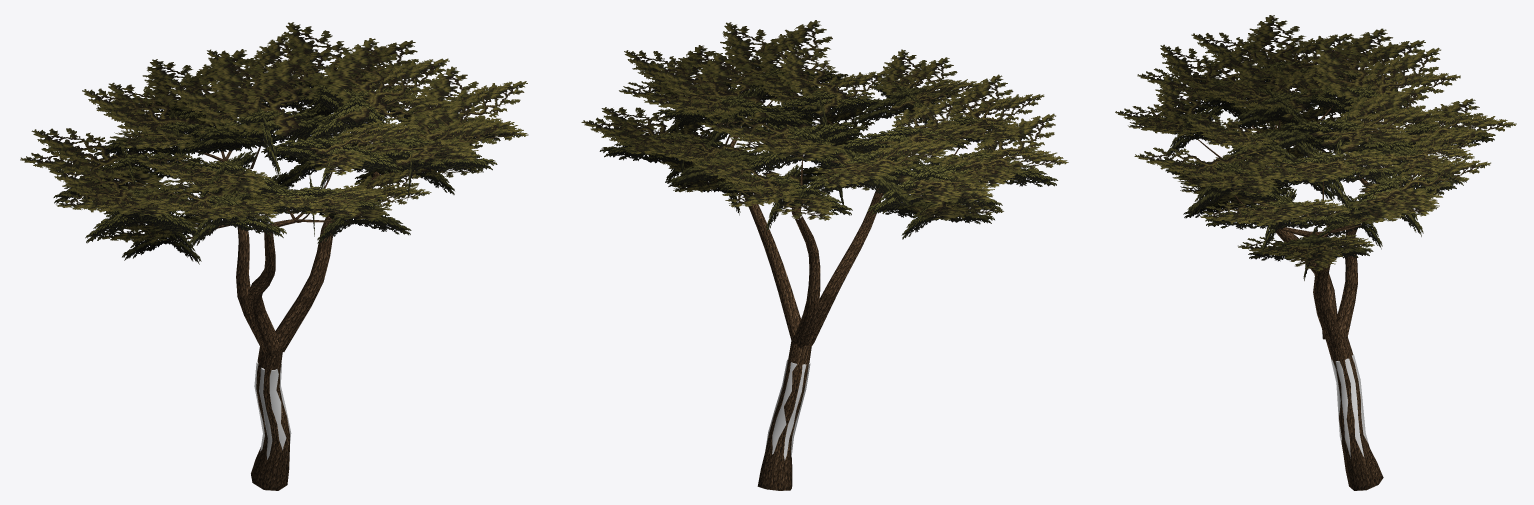
Rendered from Acacia-03-Inclinada.glb.
3 renders of one model, left to right at view 1: azimuth 30°, elevation 25°; view 2: azimuth 150°, elevation 25°; view 3: azimuth 270°, elevation 25°, orthographic. The views are drawn at different scales.
Visible parts, largest first — view 1: Acacia-03-Inclinada, Acacia-03-Inclinada_COL; view 2: Acacia-03-Inclinada, Acacia-03-Inclinada_COL; view 3: Acacia-03-Inclinada, Acacia-03-Inclinada_COL.
Part boxes in pixels (x1=…): Acacia-03-Inclinada: x1=20, y1=22, x2=528, y2=490; Acacia-03-Inclinada_COL: x1=254, y1=361, x2=291, y2=459; Acacia-03-Inclinada: x1=581, y1=20, x2=1068, y2=490; Acacia-03-Inclinada_COL: x1=765, y1=359, x2=810, y2=460; Acacia-03-Inclinada: x1=1115, y1=15, x2=1516, y2=490; Acacia-03-Inclinada_COL: x1=1331, y1=354, x2=1369, y2=458.
Size of what is drawn, in the model's own units: 11.14 by 9.04 by 8.9.
Materials: 3 (3 with a texture image).
